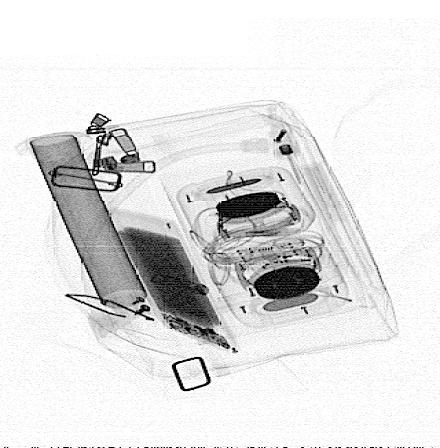Powerbank: (109, 208, 243, 354)
